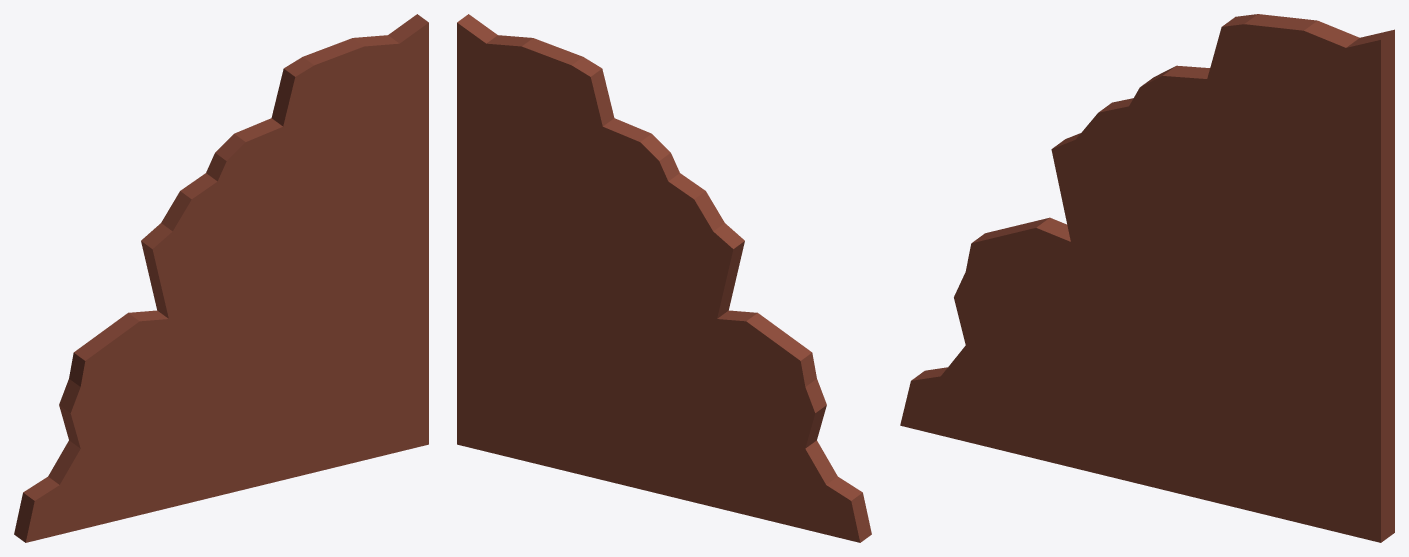
The model's file is tile09.001.glb.
3 views of the same model, side by side, from view 1: azimuth 30°, elevation 25°; view 2: azimuth 150°, elevation 25°; view 3: azimuth 330°, elevation 25° (orthographic). The views are drawn at different scales.
Parts seen in each view (by area): view 1: 09.001; view 2: 09.001; view 3: 09.001.
Boxes of the visible parts, box(x1,y1,x2,y2) form: 09.001: box(14, 14, 428, 542); 09.001: box(457, 14, 871, 542); 09.001: box(900, 14, 1394, 542).
Bounding box in the file's own units: 2 × 2 × 0.1.
Materials: 1 (1 with a texture image).
